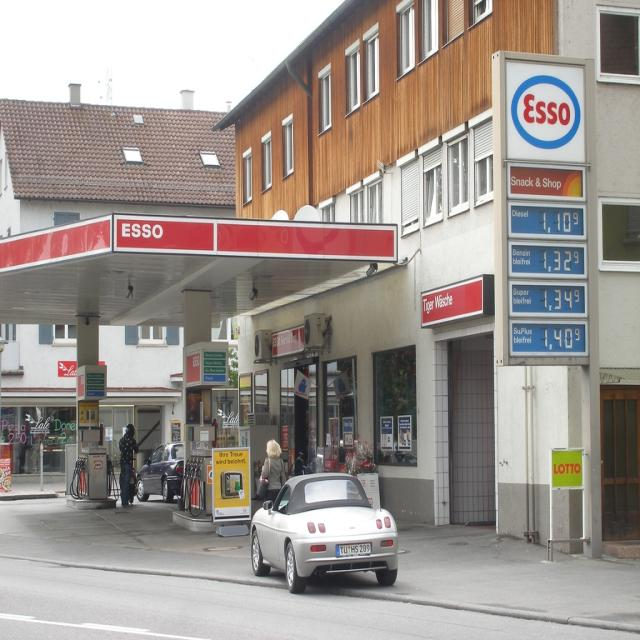esso: (509, 69, 584, 153)
